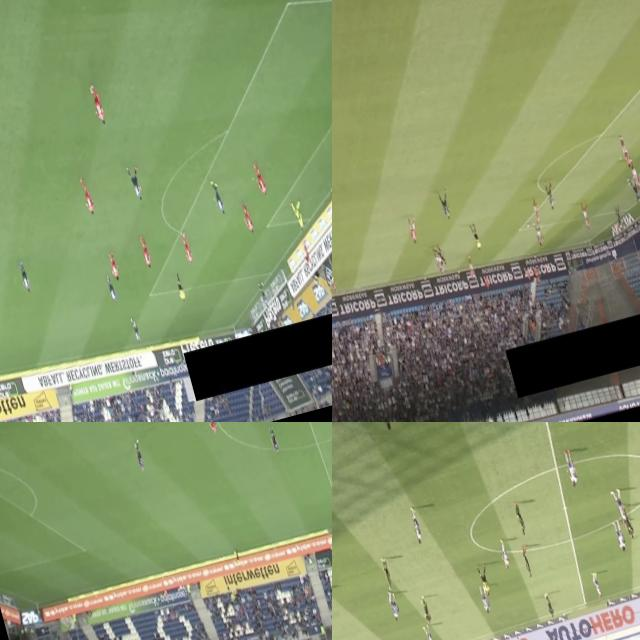ball: (525, 220, 531, 230)
player: (561, 446, 580, 492), (89, 82, 108, 127), (250, 162, 270, 201), (610, 513, 628, 552), (78, 180, 96, 217), (128, 165, 146, 202), (436, 188, 454, 222), (512, 500, 528, 538), (138, 237, 154, 272), (409, 508, 424, 545), (578, 199, 594, 233), (612, 488, 628, 522), (386, 592, 403, 624), (212, 182, 227, 218), (617, 136, 632, 172), (291, 200, 307, 233), (378, 556, 394, 589), (106, 250, 122, 282), (178, 230, 194, 262), (620, 502, 634, 538), (240, 204, 256, 235), (105, 277, 120, 308), (543, 183, 558, 214), (478, 586, 493, 616), (521, 544, 535, 576), (132, 438, 146, 469), (590, 568, 604, 599), (18, 264, 32, 294), (406, 214, 420, 244), (258, 282, 272, 311), (627, 159, 640, 190), (532, 220, 547, 246), (529, 197, 542, 224), (496, 541, 509, 568), (432, 249, 446, 274), (628, 175, 640, 204), (420, 596, 432, 625), (130, 318, 143, 344), (612, 204, 625, 230), (544, 590, 556, 618), (466, 253, 478, 280), (268, 428, 280, 455), (371, 422, 394, 433), (436, 245, 446, 268), (332, 268, 340, 294), (204, 422, 219, 434), (423, 625, 435, 640)
